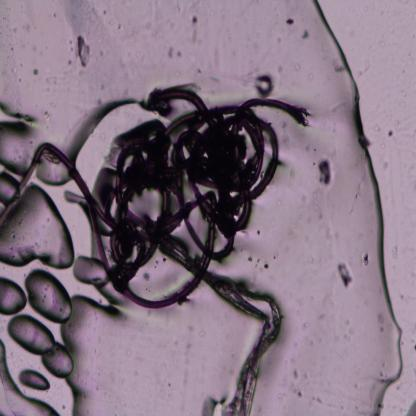Air bubble: (310, 0, 416, 415), (0, 336, 84, 415), (0, 188, 77, 268), (73, 90, 139, 162), (8, 313, 74, 377), (24, 267, 74, 325), (0, 277, 28, 316), (19, 364, 52, 392)
Background material: (271, 363, 303, 404), (314, 155, 337, 192), (74, 32, 92, 72), (336, 260, 356, 288), (252, 71, 274, 96), (188, 12, 204, 42), (294, 26, 316, 42), (160, 44, 181, 60), (258, 260, 272, 274), (386, 121, 394, 140), (284, 16, 294, 29), (31, 65, 40, 78)
Cellulose filter fibre: (202, 271, 282, 415)
Microfibre: (0, 86, 310, 309)
